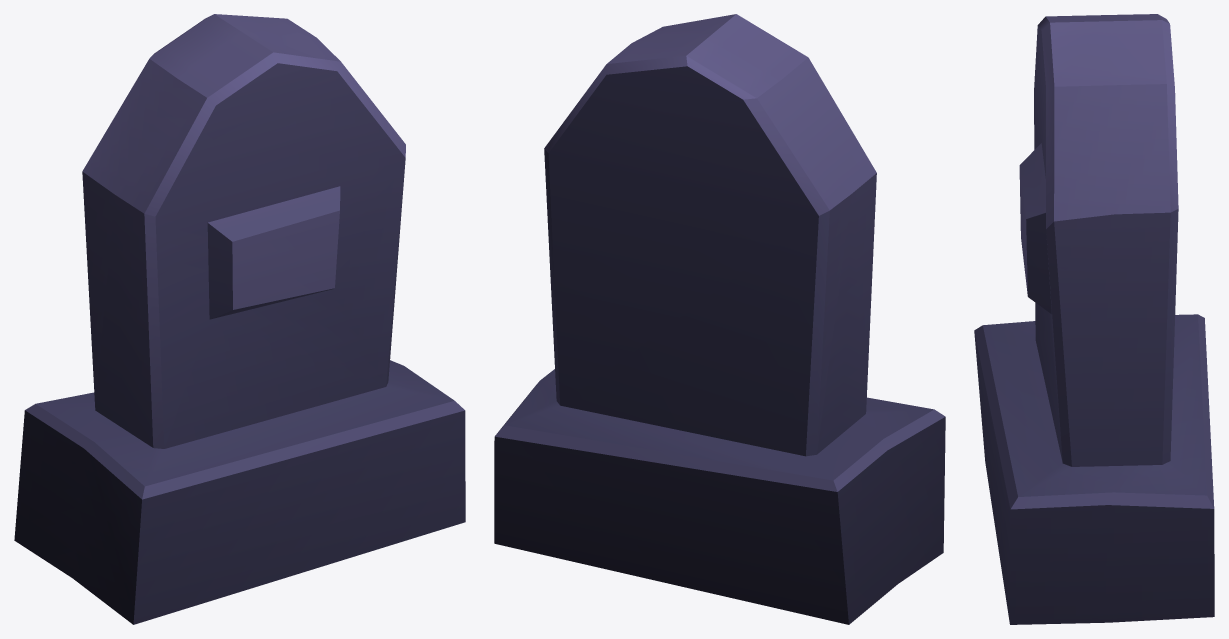
File: prop_tomb_5.glb
3 views of the same model, side by side, from view 1: azimuth 30°, elevation 25°; view 2: azimuth 150°, elevation 25°; view 3: azimuth 270°, elevation 25° (orthographic). The views are drawn at different scales.
Parts seen in each view (by area): view 1: prop_tomb_5; view 2: prop_tomb_5; view 3: prop_tomb_5.
Boxes of the visible parts, x1=… form: prop_tomb_5: x1=14, y1=14, x2=465, y2=624; prop_tomb_5: x1=494, y1=14, x2=945, y2=624; prop_tomb_5: x1=974, y1=14, x2=1214, y2=624.
Bounding box in the file's own units: 2.34 × 3.18 × 1.32.
1 material, 1 textured.
